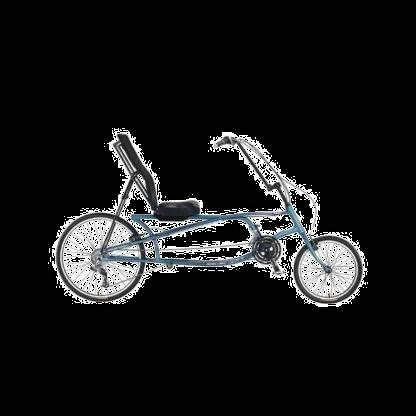Bicycle: (38, 119, 385, 313)
